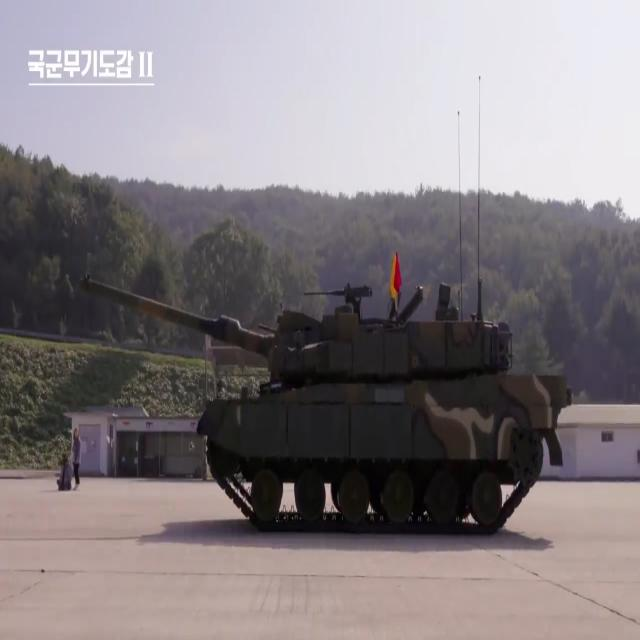korea tank: (78, 266, 574, 540)
